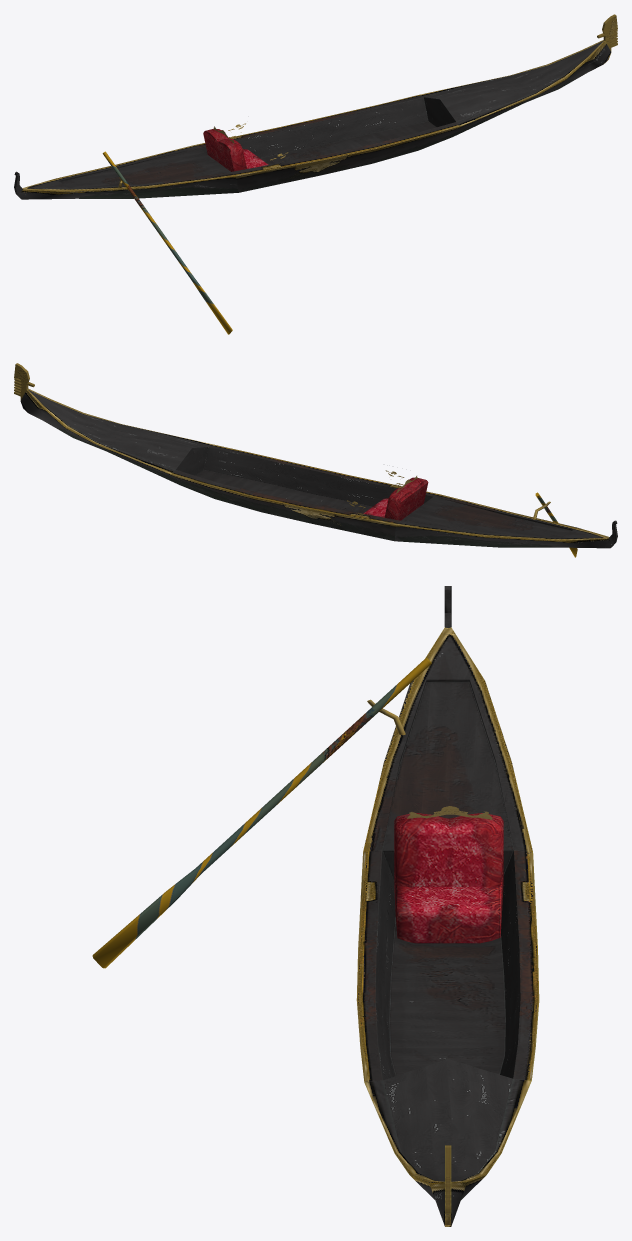
Rendered from Prop_Gondola_Export.fbx.
3 views of the same model, one above another, from view 1: azimuth 30°, elevation 25°; view 2: azimuth 150°, elevation 25°; view 3: azimuth 270°, elevation 25° (orthographic). The views are drawn at different scales.
Visible parts, largest first — view 1: Plane002; view 2: Plane002; view 3: Plane002.
Boxes of the visible parts, box(x1,y1,x2,y2) form: Plane002: box(14, 14, 617, 334); Plane002: box(14, 363, 617, 557); Plane002: box(92, 586, 539, 1226).
Bounding box in the file's own units: 917 × 206 × 294.
1 material, 1 textured.
